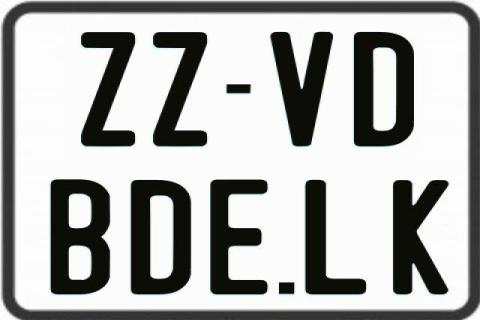B: (49, 177, 113, 293)
D: (354, 32, 420, 149), (130, 178, 190, 296)
E: (208, 178, 272, 294)
K: (393, 179, 454, 296)
L: (303, 179, 365, 293)
V: (271, 31, 334, 148)
Z: (78, 32, 135, 151), (152, 30, 206, 148)
